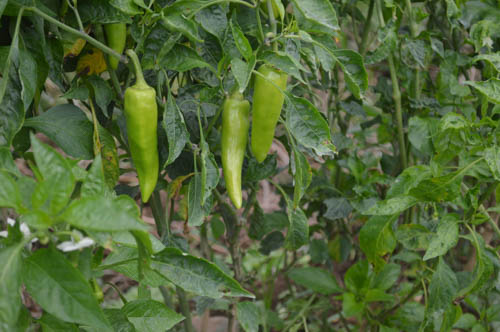ChiliPepper: (125, 89, 159, 203), (252, 66, 287, 159), (223, 102, 251, 205)
